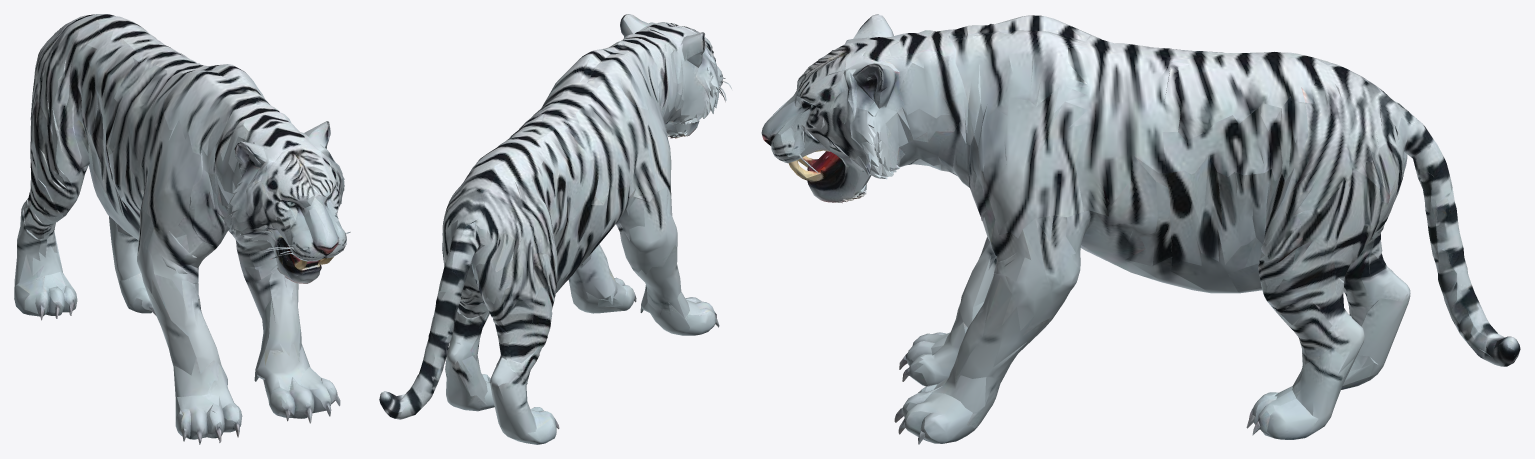
Rendered from sabre_tiger.glb.
The picture shows the model from 3 angles, left to right: view 1: azimuth 30°, elevation 25°; view 2: azimuth 150°, elevation 25°; view 3: azimuth 270°, elevation 25°; orthographic projection. The views are drawn at different scales.
Bounding box in the file's own units: 0.5383 × 1.05 × 1.9.
Materials: 1 (1 with a texture image).
